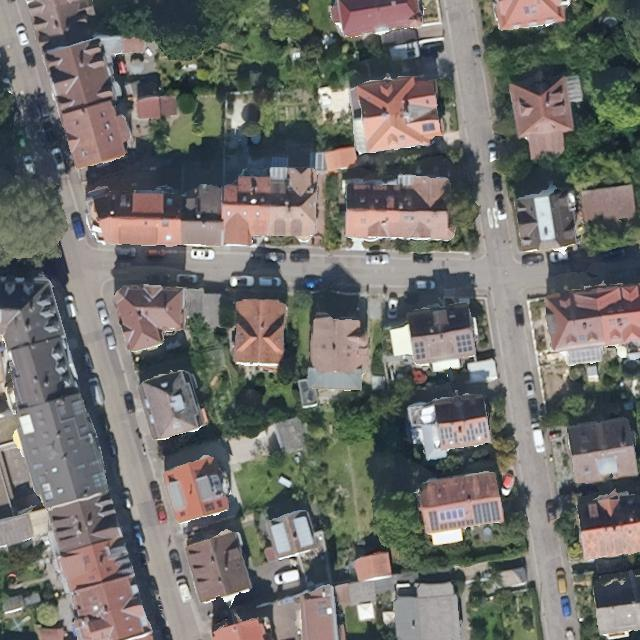PV: (437, 418, 491, 448), (425, 509, 477, 534), (470, 500, 503, 528), (451, 331, 475, 355), (411, 339, 430, 363)
